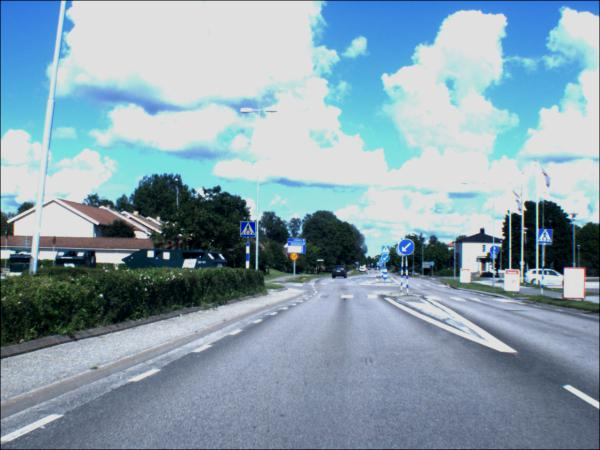50_SIGN: (291, 254, 299, 262)
PASS_RIGHT_SIDE: (398, 240, 415, 257), (381, 255, 389, 264)
PEDESTRIAN_CROSSING: (538, 231, 554, 247), (241, 223, 256, 239), (382, 247, 390, 255)
